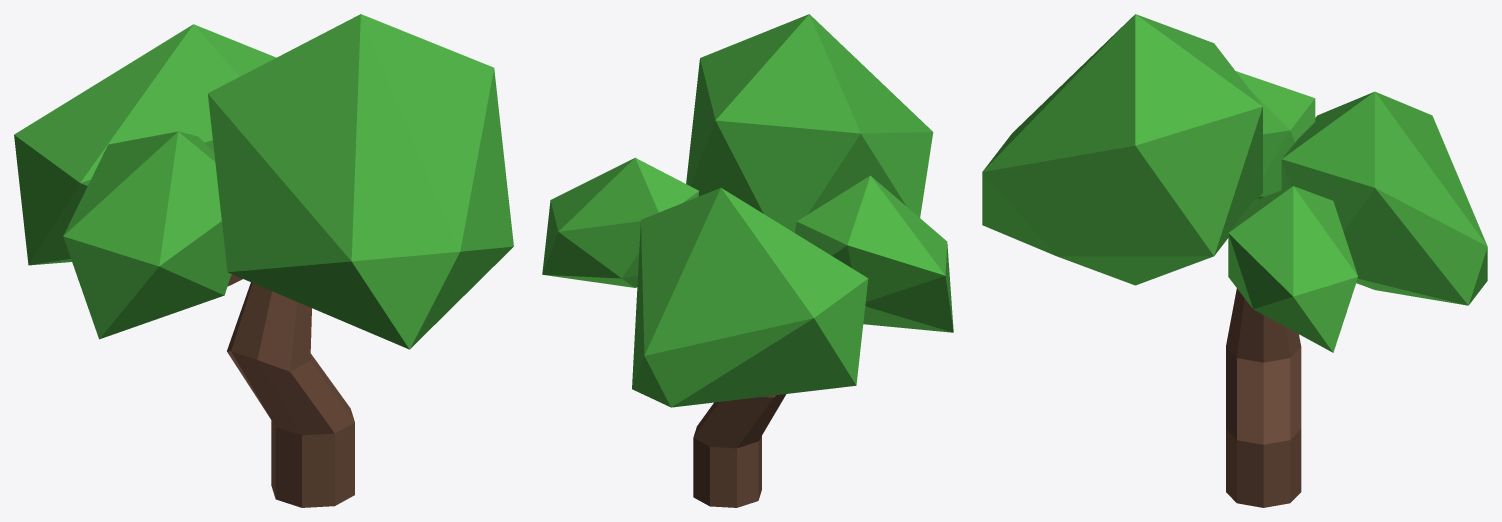
Rendered from TreeOak.fbx.
3 renders of one model, left to right at view 1: azimuth 30°, elevation 25°; view 2: azimuth 150°, elevation 25°; view 3: azimuth 270°, elevation 25°, orthographic. The views are drawn at different scales.
Parts seen in each view (by area): view 1: TreeOak; view 2: TreeOak; view 3: TreeOak.
Part boxes in pixels (x1,y1,x2,y2): TreeOak: (14,14,513,507); TreeOak: (542,14,953,507); TreeOak: (982,14,1487,507).
Bounding box in the file's own units: 13.21 × 14.84 × 14.56.
